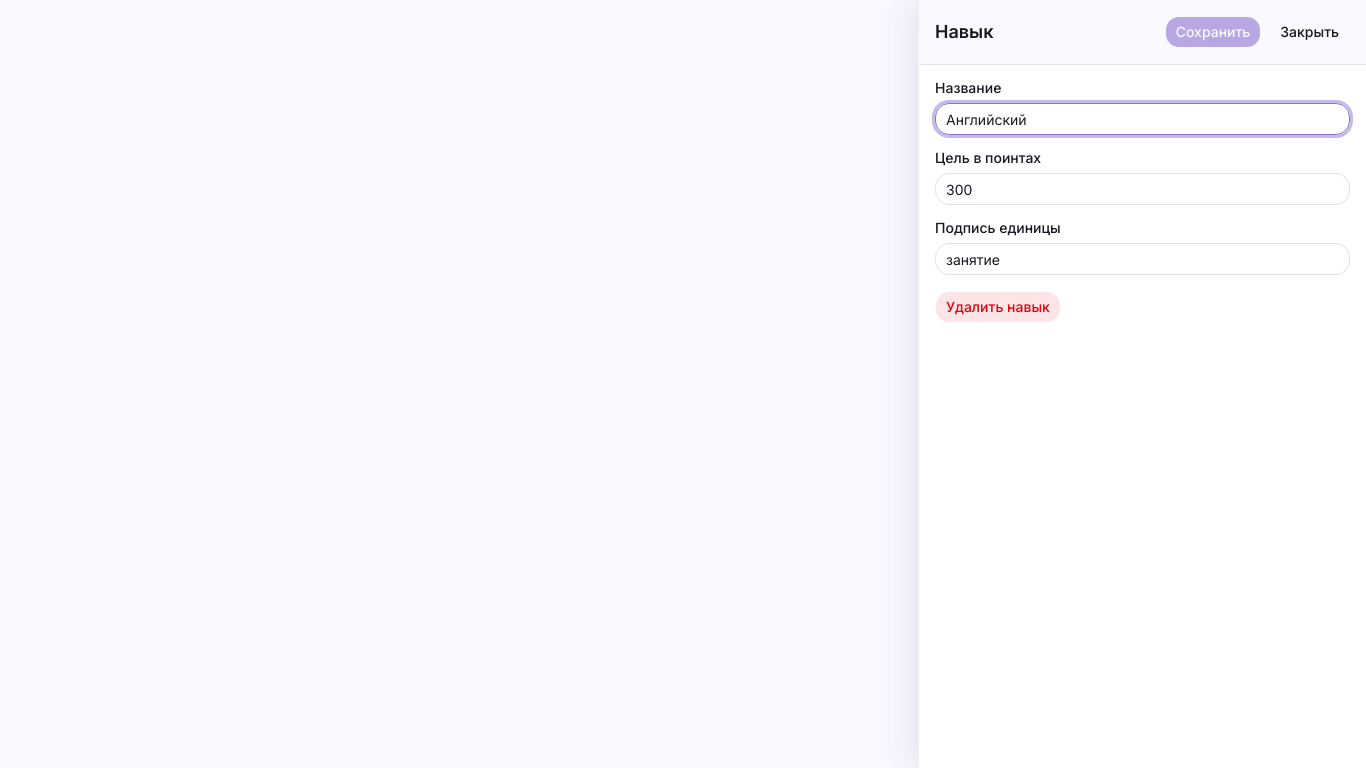
Test case: SkillDrawer › у навыка без трекеров так и говорит
The image size is (1366, 768).
Click the button "Удалить навык" at (998, 307), box [935, 291, 1061, 323]
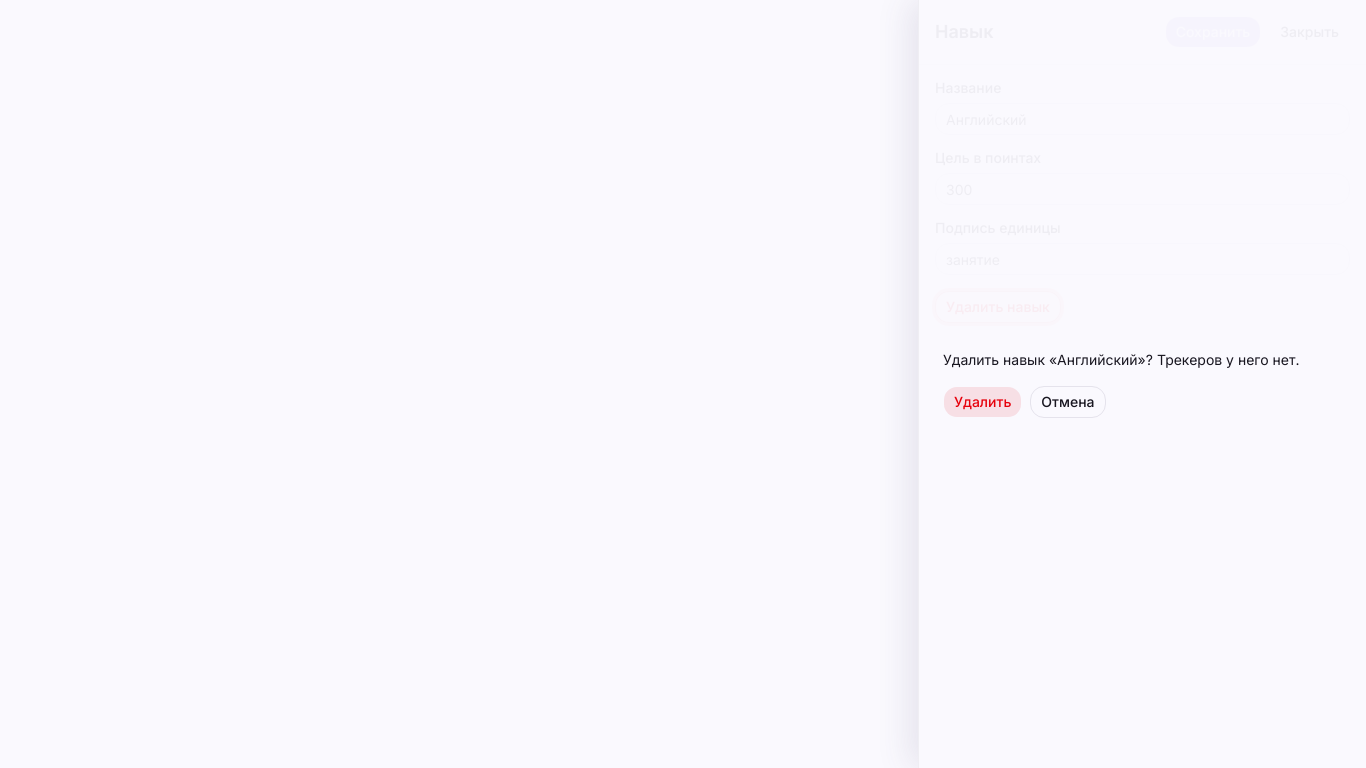
Expected: the dialog shows "Трекеров у него нет", [1153, 351, 1300, 368]
